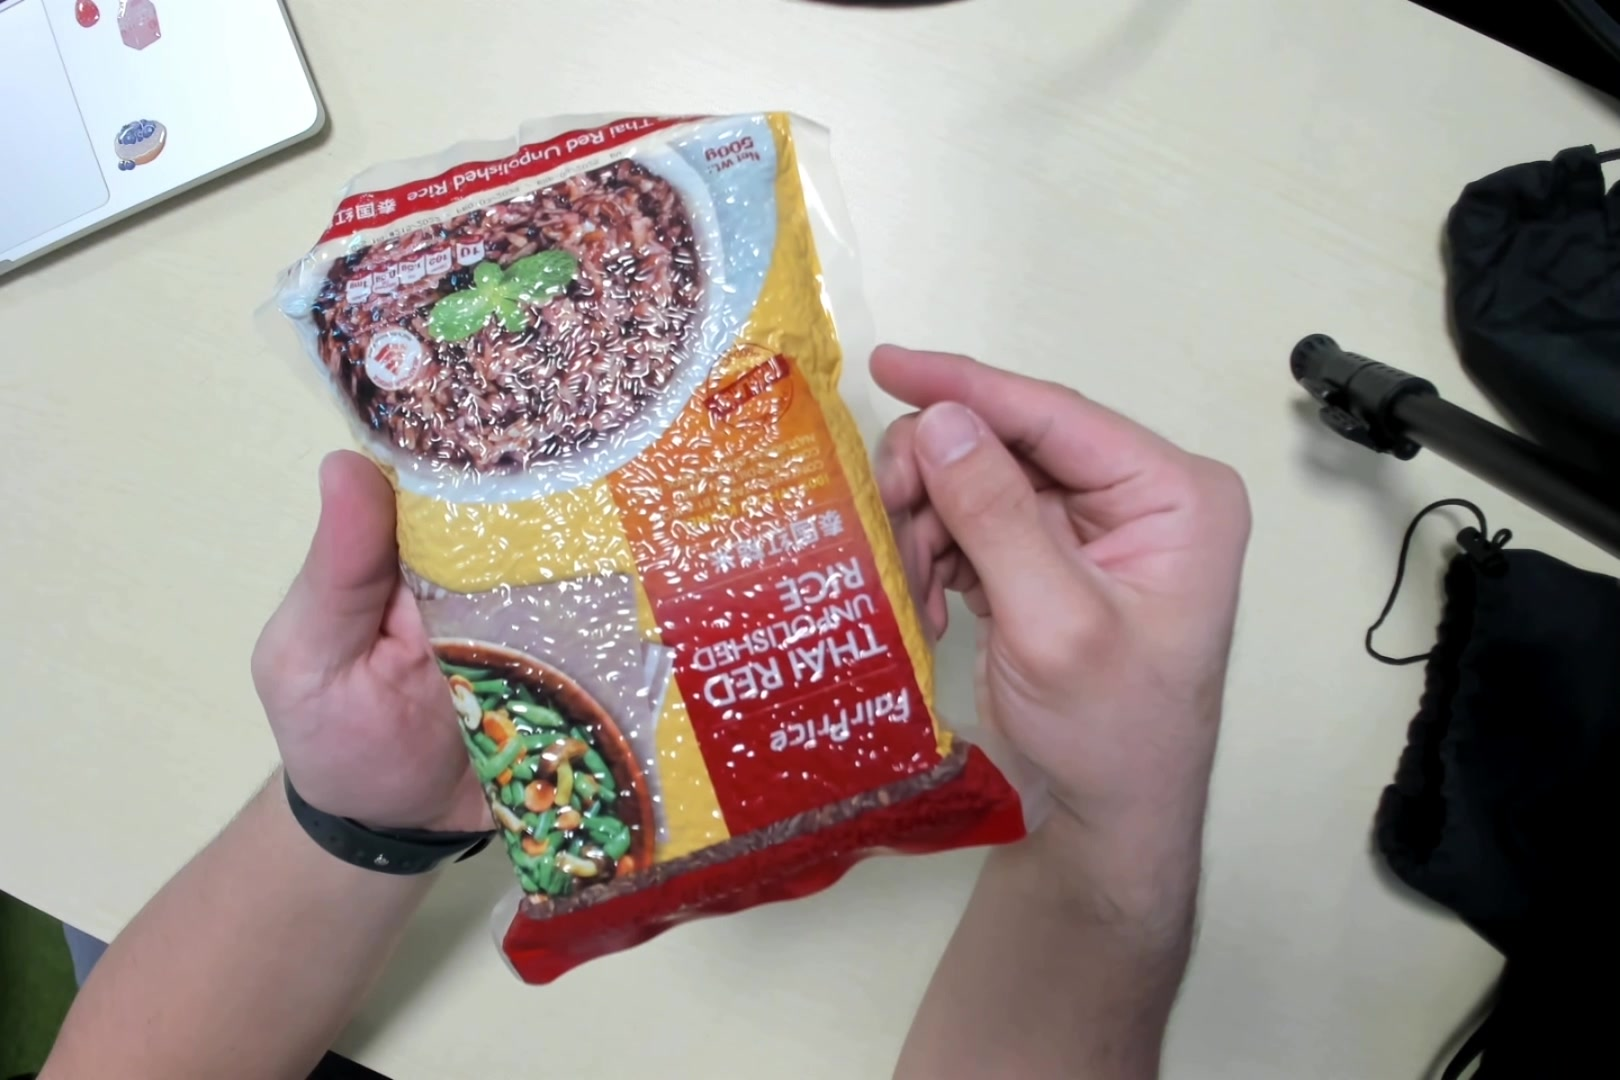Rice(BrownOthers)_500-599g_NonHalal_Healthy: (290, 108, 1017, 915)
